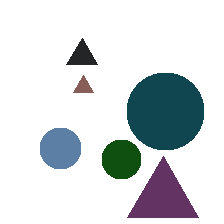circle: (127, 73, 203, 149), (40, 128, 80, 168), (102, 140, 140, 178)
triangle: (127, 156, 198, 217), (66, 38, 97, 64), (73, 75, 93, 92)
